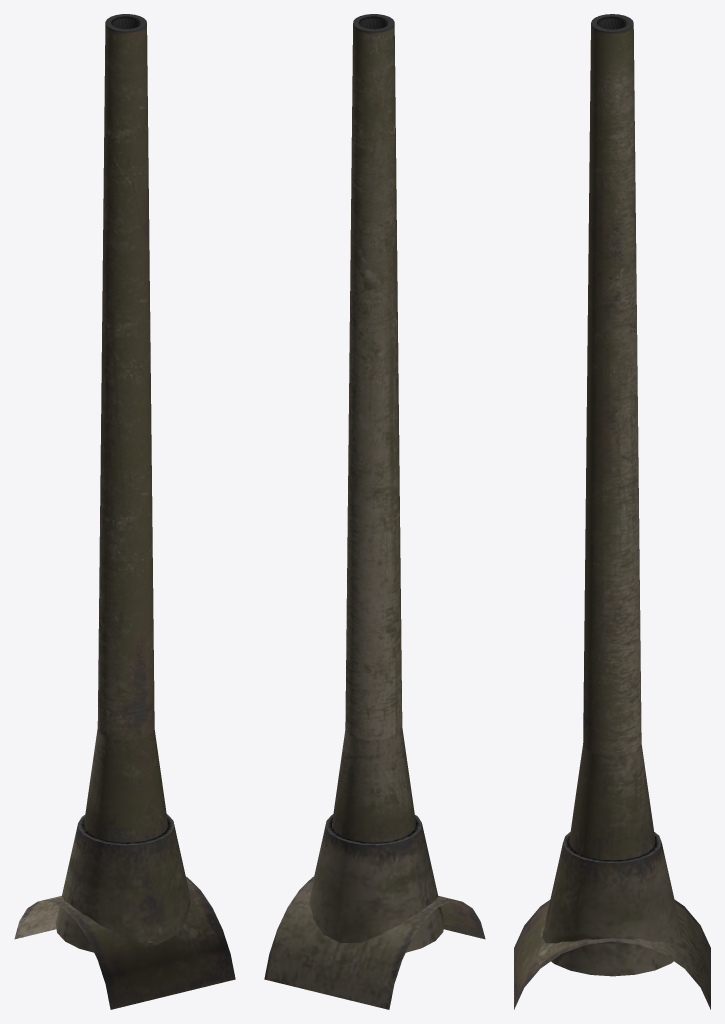
File: Gun_03.glb
The picture shows the model from 3 angles, left to right: view 1: azimuth 30°, elevation 25°; view 2: azimuth 150°, elevation 25°; view 3: azimuth 270°, elevation 25°; orthographic projection. The views are drawn at different scales.
Parts seen in each view (by area): view 1: set_0_group_0; view 2: set_0_group_0; view 3: set_0_group_0.
Boxes of the visible parts, left/top/right/bottom form: set_0_group_0: left=14, top=14, right=235, bottom=1009; set_0_group_0: left=264, top=14, right=485, bottom=1009; set_0_group_0: left=514, top=14, right=710, bottom=1009.
Bounding box in the file's own units: 0.3998 × 2.86 × 0.5331.
Materials: 1 (1 with a texture image).
